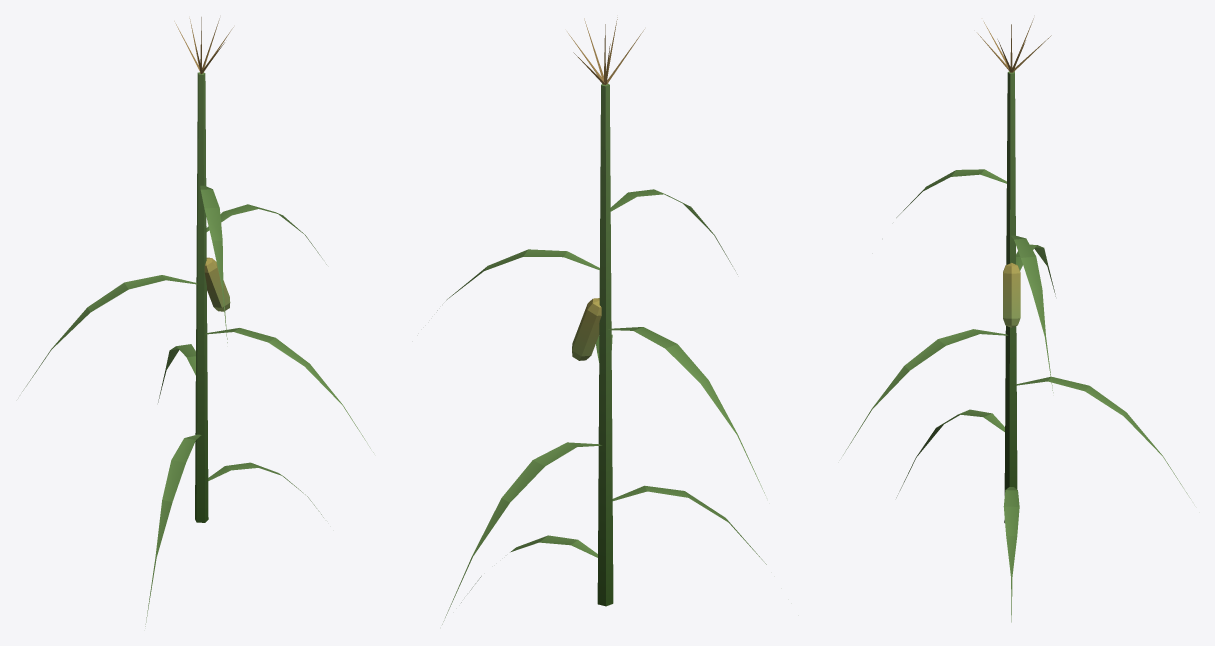
File: corn-lod.glb
3 renders of one model, left to right at view 1: azimuth 30°, elevation 25°; view 2: azimuth 150°, elevation 25°; view 3: azimuth 270°, elevation 25°, orthographic. The views are drawn at different scales.
Visible parts, largest first — view 1: corn; view 2: corn; view 3: corn.
Part boxes in pixels (left/top/right/bottom): corn: left=22, top=17, right=373, bottom=626; corn: left=437, top=17, right=766, bottom=624; corn: left=843, top=18, right=1190, bottom=622.
Size of the model in its own units: 1.63 by 2.69 by 1.61.
